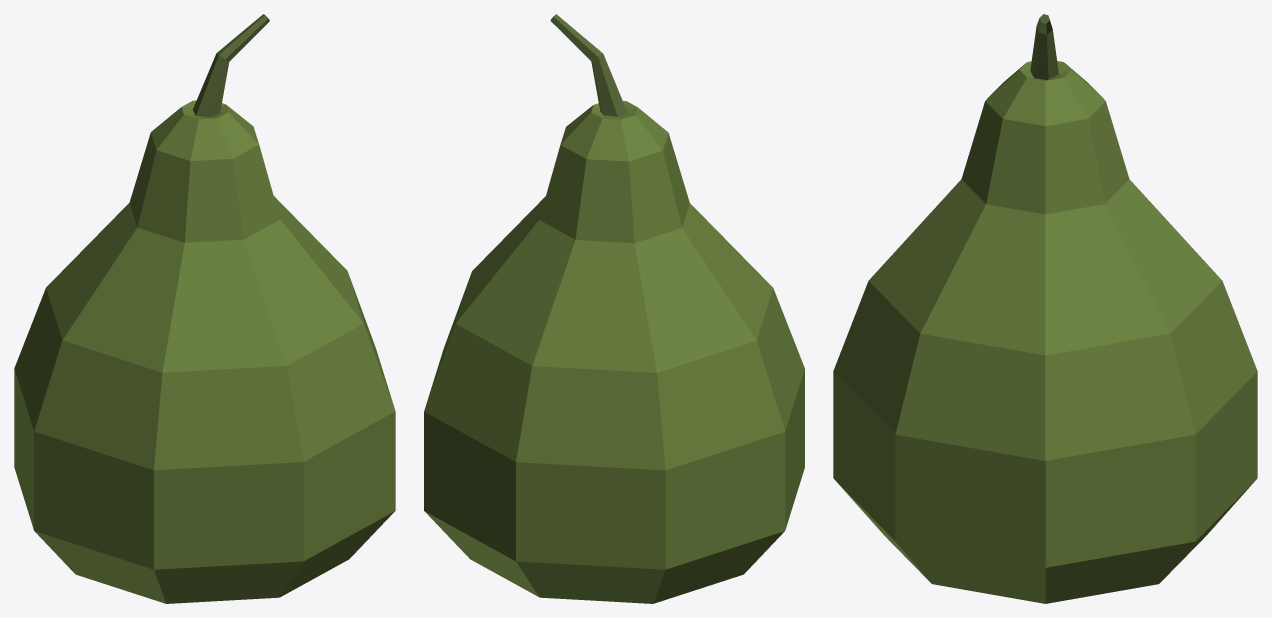
Rendered from SM_Envr_Nature_Farm_Vegetable_BottleGourd.fbx.
3 views of the same model, side by side, from view 1: azimuth 30°, elevation 25°; view 2: azimuth 150°, elevation 25°; view 3: azimuth 270°, elevation 25° (orthographic). The views are drawn at different scales.
Parts seen in each view (by area): view 1: SM_Envr_Nature_Farm_Vegetable_BottleGourd; view 2: SM_Envr_Nature_Farm_Vegetable_BottleGourd; view 3: SM_Envr_Nature_Farm_Vegetable_BottleGourd.
Part boxes in pixels (bbox=[...]): SM_Envr_Nature_Farm_Vegetable_BottleGourd: bbox=[14, 14, 395, 603]; SM_Envr_Nature_Farm_Vegetable_BottleGourd: bbox=[424, 14, 804, 603]; SM_Envr_Nature_Farm_Vegetable_BottleGourd: bbox=[833, 14, 1257, 603].
Size of the model in its own units: 17.53 by 26.99 by 17.53.
